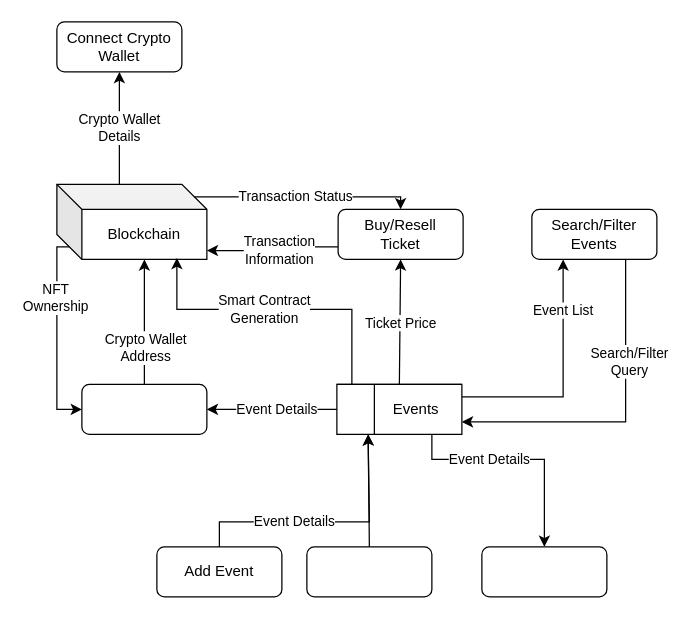
Some shapes in this 689 by 619 pixel diagram are drawn without their labels. The shapes that lost their labels are listed below. From the top down, each one's centre as x and y in pixels, then its label:
At (x=144, y=408): "View Purchases".
At (x=369, y=571): "Delete Event".
At (x=544, y=571): "View Event".
